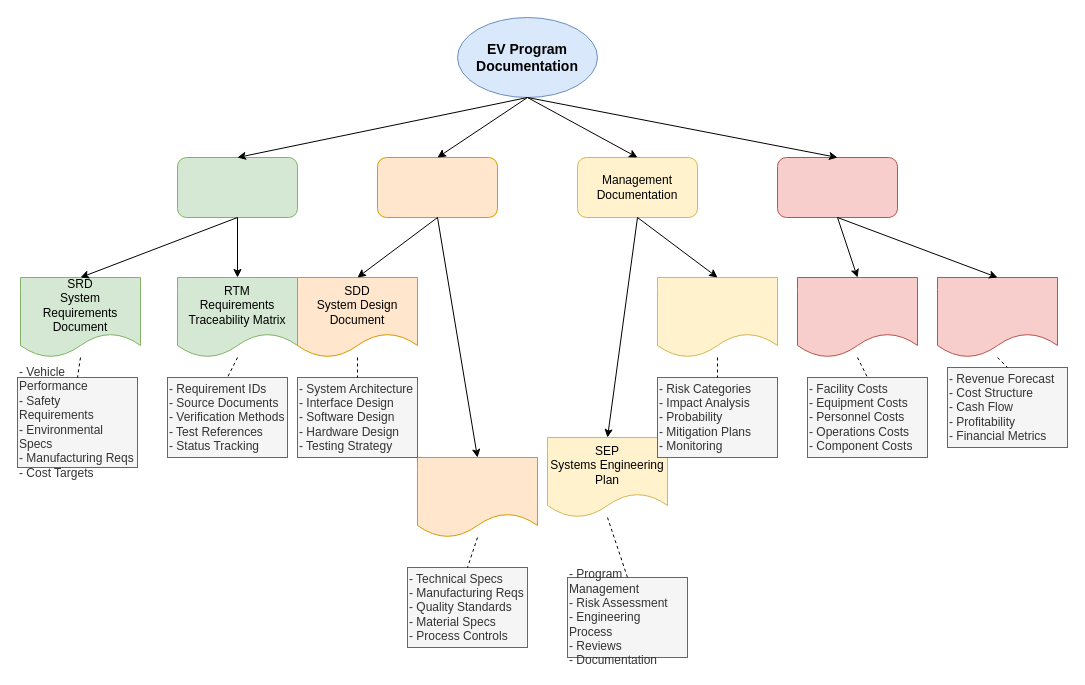
Some shapes in this 1085 by 685 pixel diagram are drawn without their labels. Here are the shapes that lost their labels. From the top down, the box of each, then its label:
(176, 156, 298, 218): Requirements Documentation
(376, 156, 498, 218): Technical Documentation
(776, 156, 898, 218): Financial Documentation
(656, 276, 778, 358): RAM Risk Assessment Matrix
(796, 276, 918, 358): CBS Cost Breakdown Structure
(936, 276, 1058, 358): FP Financial Projections
(416, 456, 538, 538): TDP Technical Data Package
